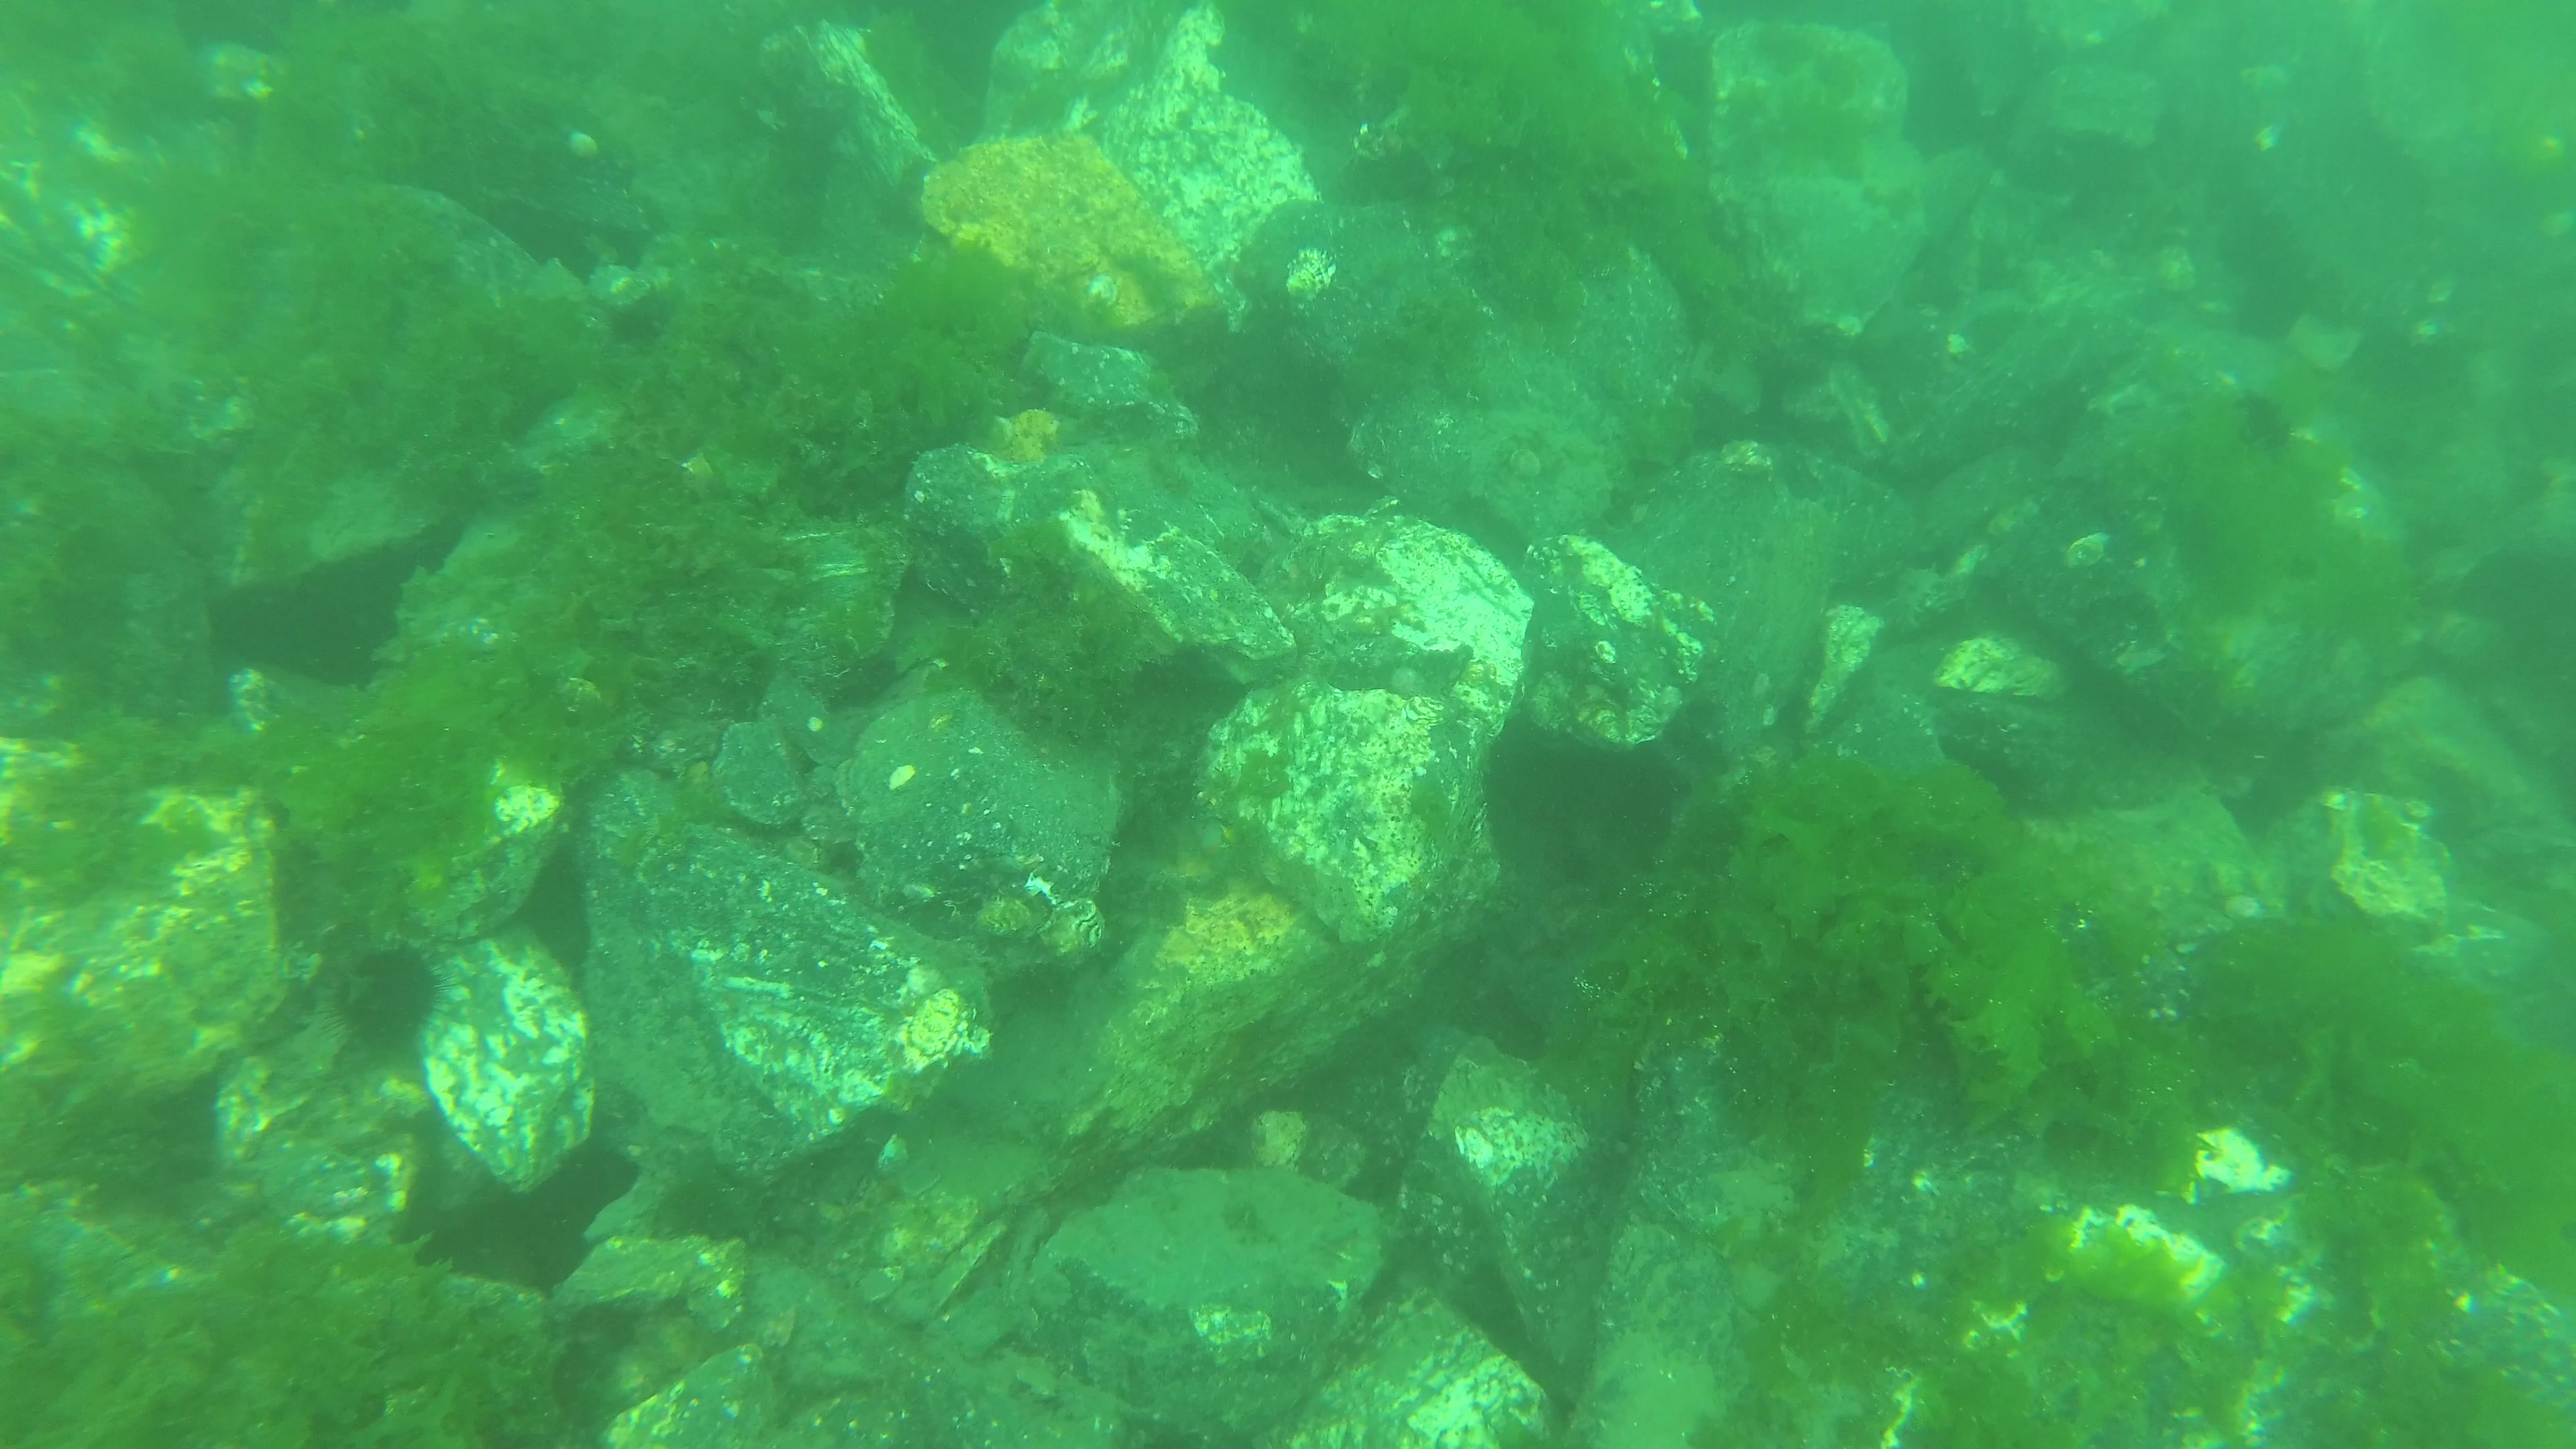echinus: (326, 941, 444, 1054), (2219, 382, 2298, 464)
